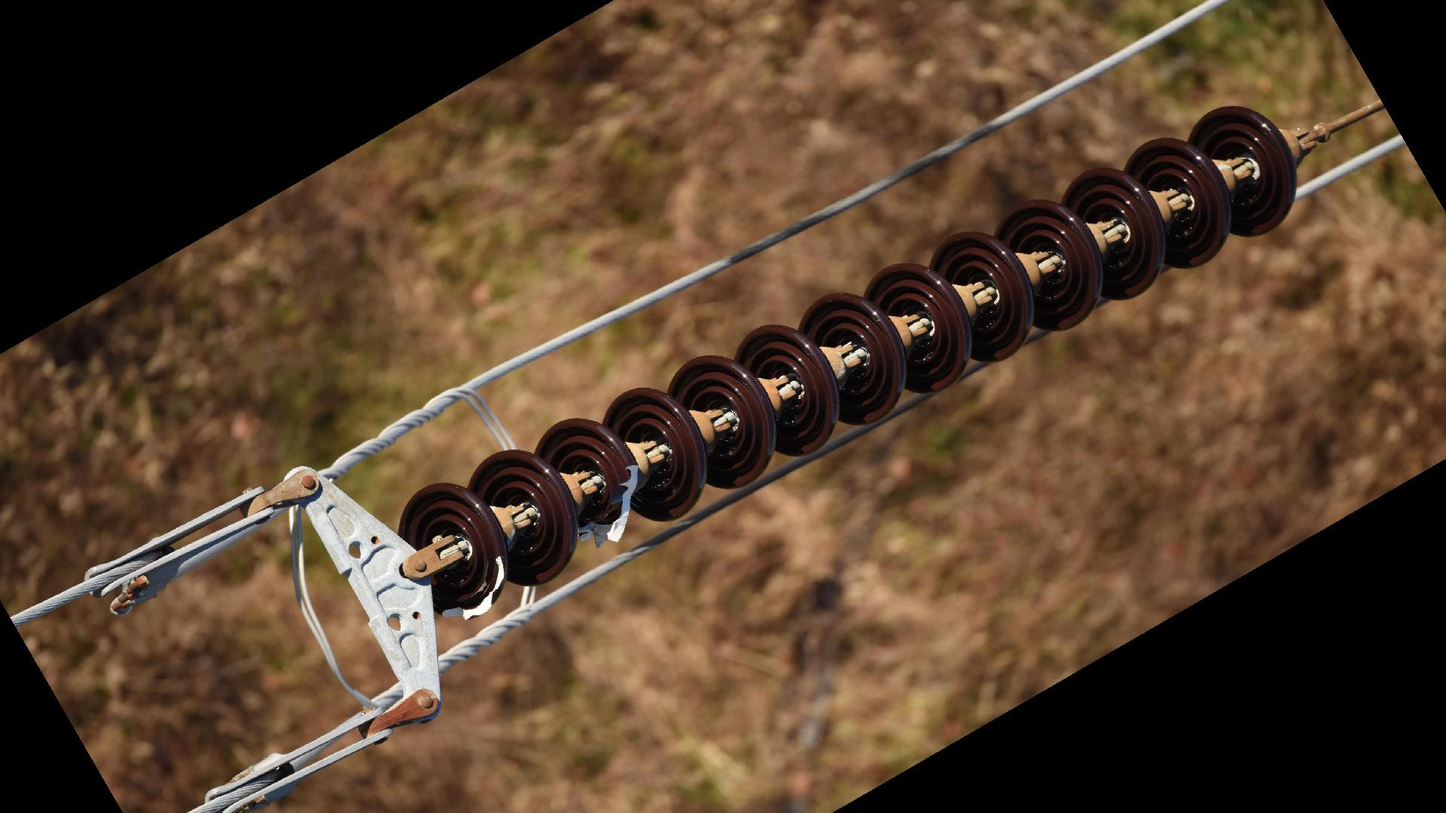insulator: (393, 98, 1307, 628)
insulator_breakage: (576, 459, 644, 552), (436, 552, 509, 624)
